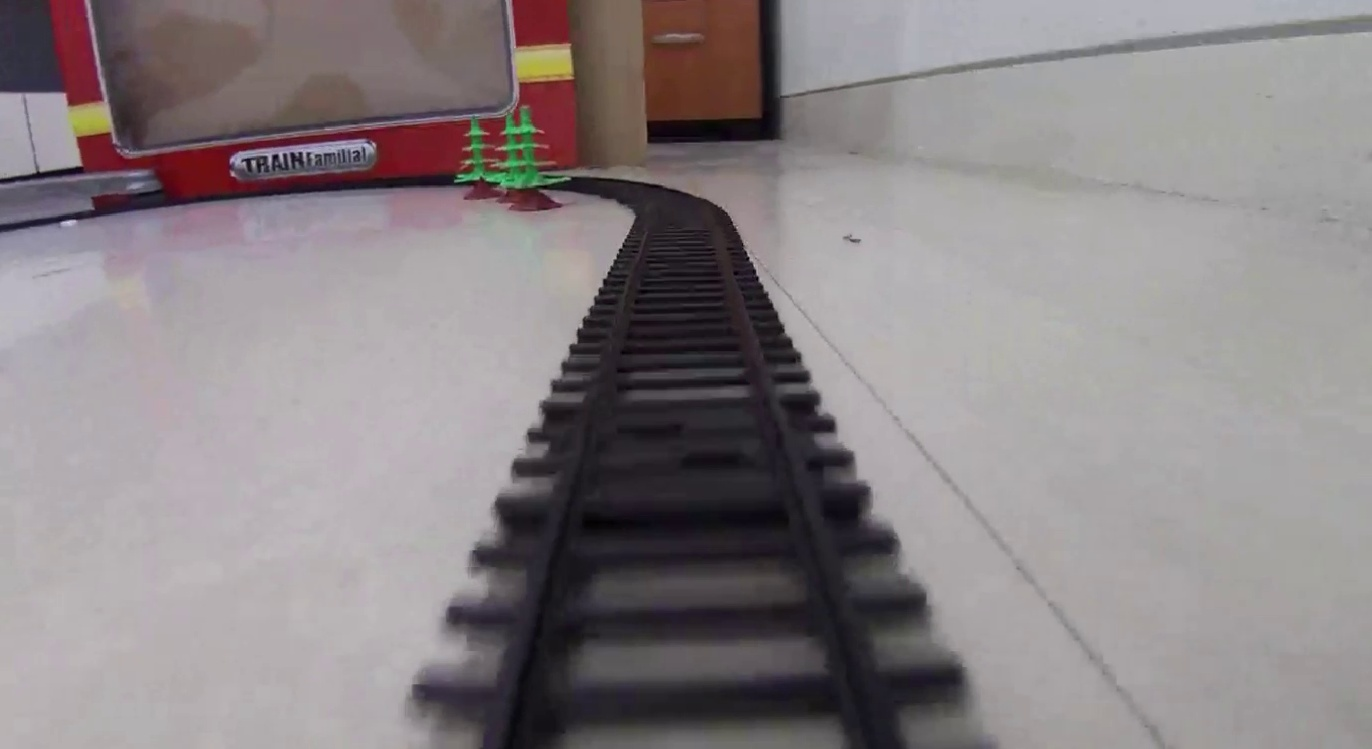tree: (499, 107, 570, 209), (463, 116, 505, 201)
